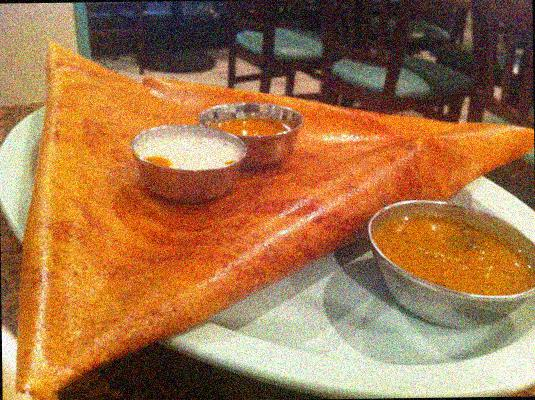dosa: (14, 36, 535, 395)
